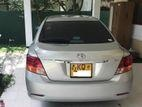car: (26, 15, 134, 103)
